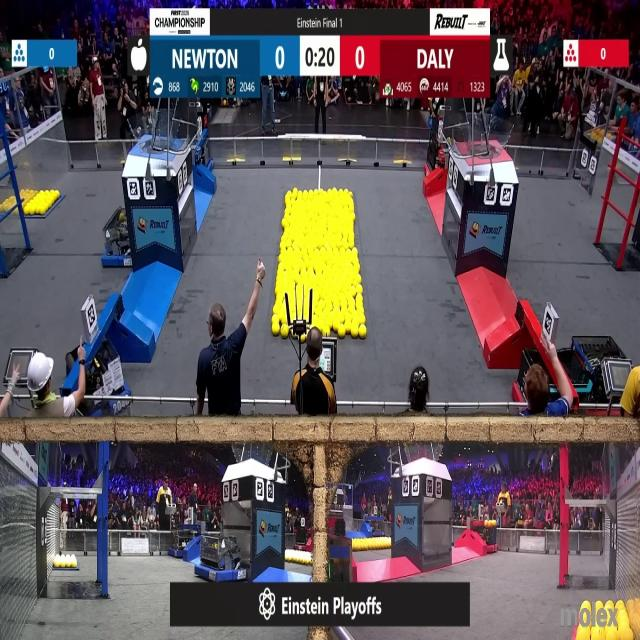ball_ground: (358, 325, 366, 338), (281, 325, 289, 337), (273, 323, 280, 335), (351, 325, 358, 337), (340, 325, 346, 337)
goal: (460, 117, 515, 158), (130, 118, 186, 152)
robot_blue: (63, 332, 138, 423), (199, 534, 244, 582), (104, 213, 138, 264), (170, 533, 200, 560), (365, 518, 391, 538)
robot_red: (570, 329, 629, 420), (517, 337, 580, 419), (473, 521, 499, 552), (293, 534, 310, 550)
